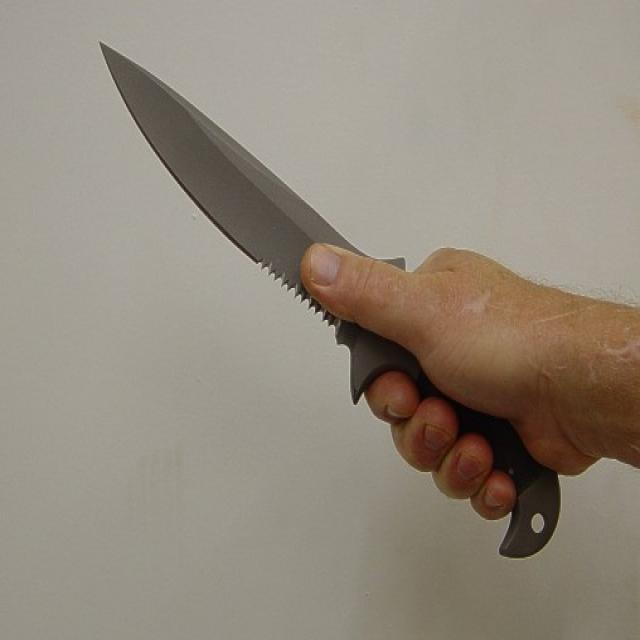knife: (100, 34, 312, 296)
